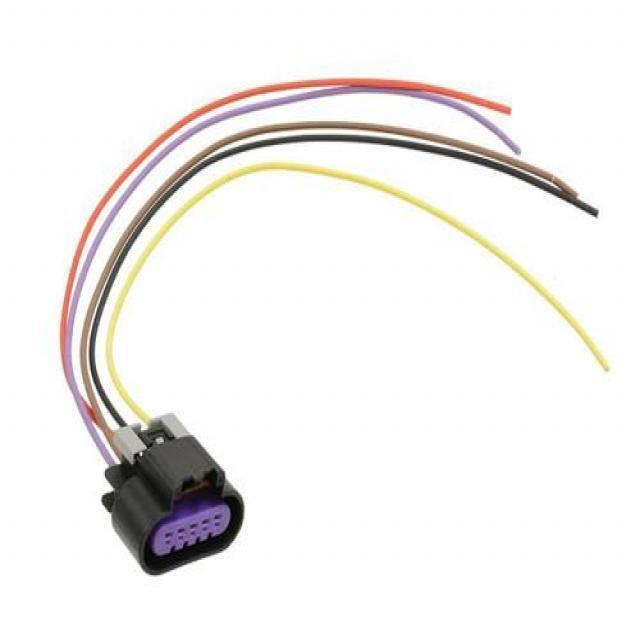connector: (102, 414, 243, 573)
